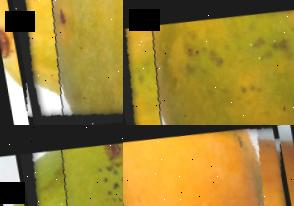PartiallyRipe: (123, 0, 294, 125), (3, 0, 123, 125)
Ripe: (123, 125, 294, 206)
Unripe: (17, 126, 123, 206)
